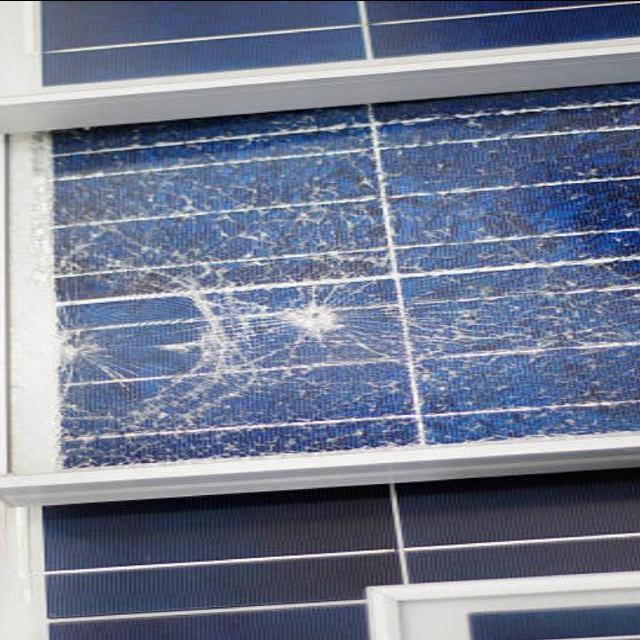cracked: (1, 70, 640, 492)
